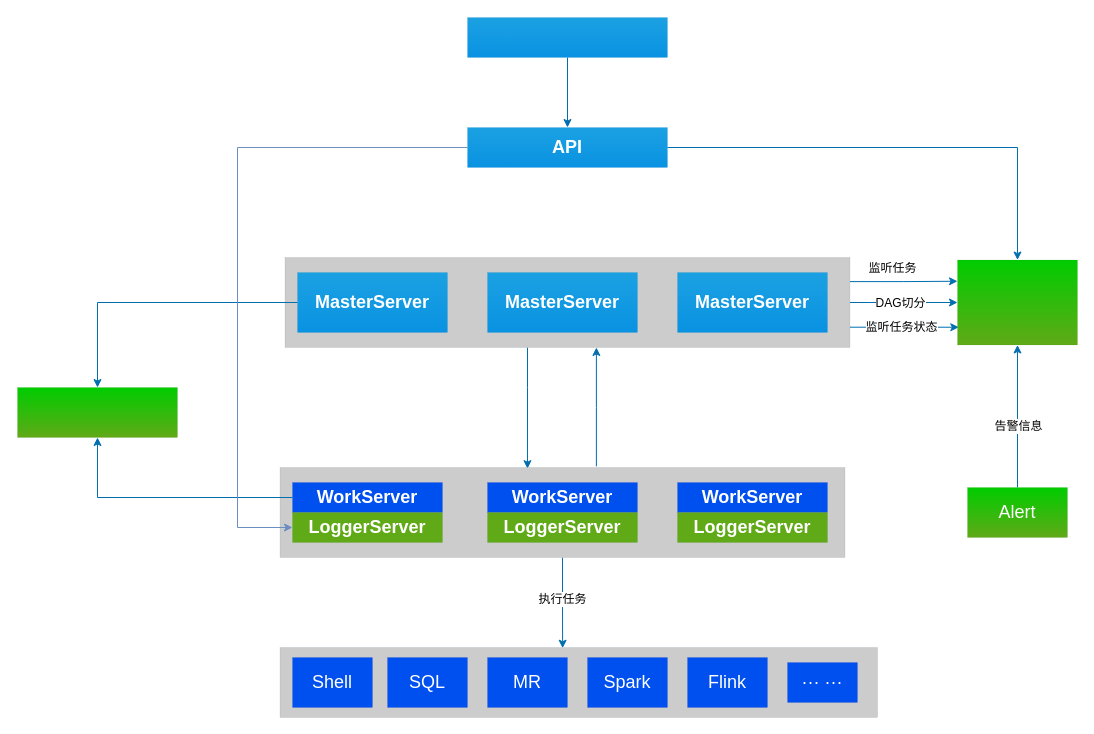
The diagram is 1094 pixels wide and 734 high, and some of its shapes have lost their labels. Each missing label, with the centre of its shape:
"DataBase" belongs at pixel 1017 302.
"UI" belongs at pixel 567 37.
"Zookeeper" belongs at pixel 97 412.
